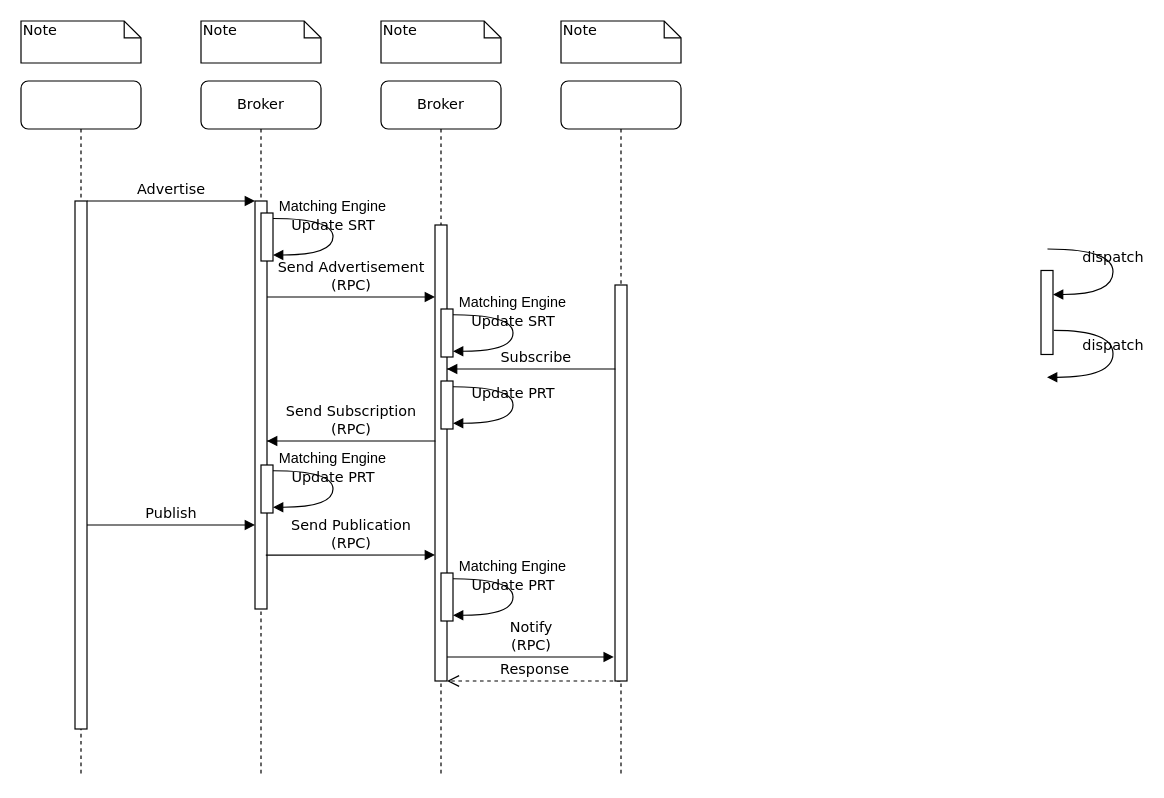
Some shapes in this 1164 by 798 pixel diagram are drawn without their labels. The box of each missing label's shape, as (x1, y1, x2, y2) in pixels:
Publisher: (20, 80, 141, 777)
Subscriber: (560, 80, 681, 777)
